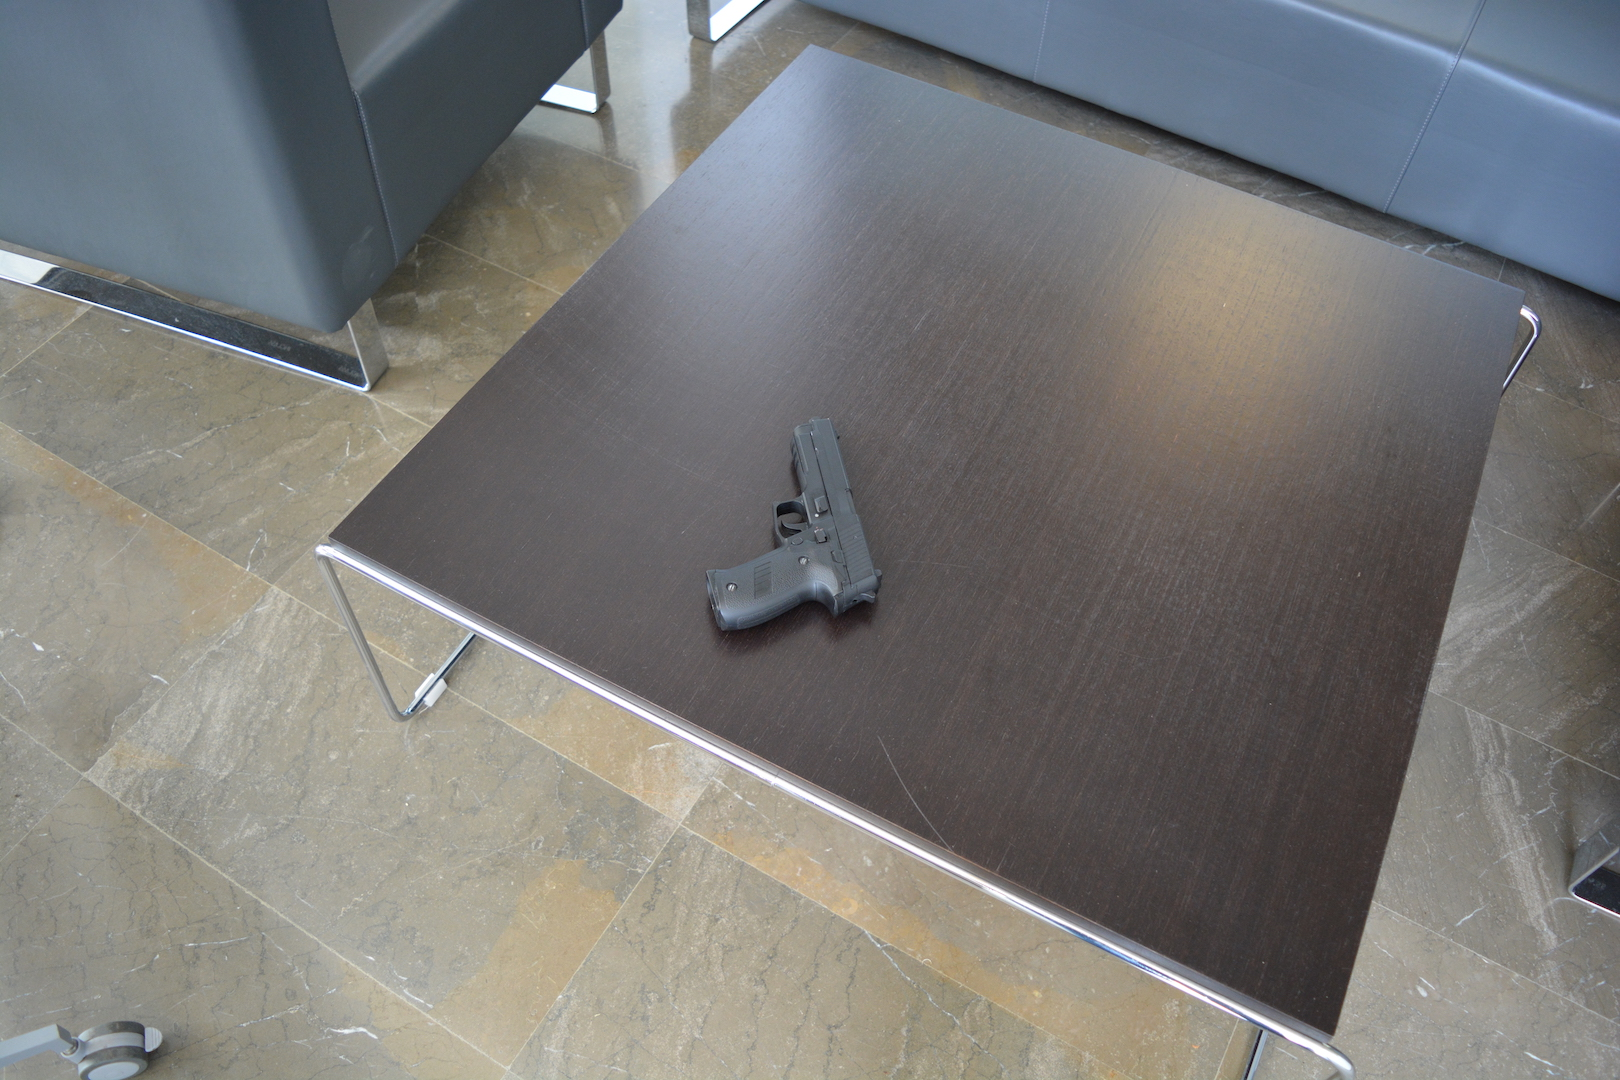pistol: (705, 415, 884, 633)
